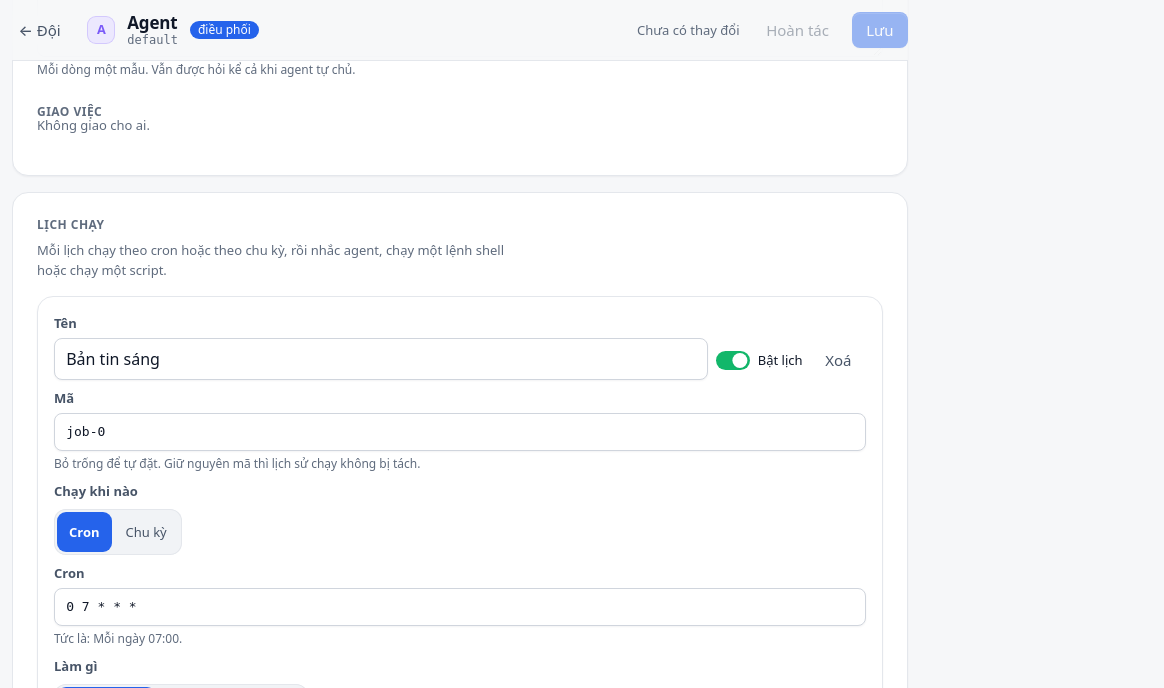
it: a script row the server numbered by its place › keeps that id when a row above it goes, save after save
(page scrolled)
Click the button "Xoá": click(838, 360) [810,340,866,380]
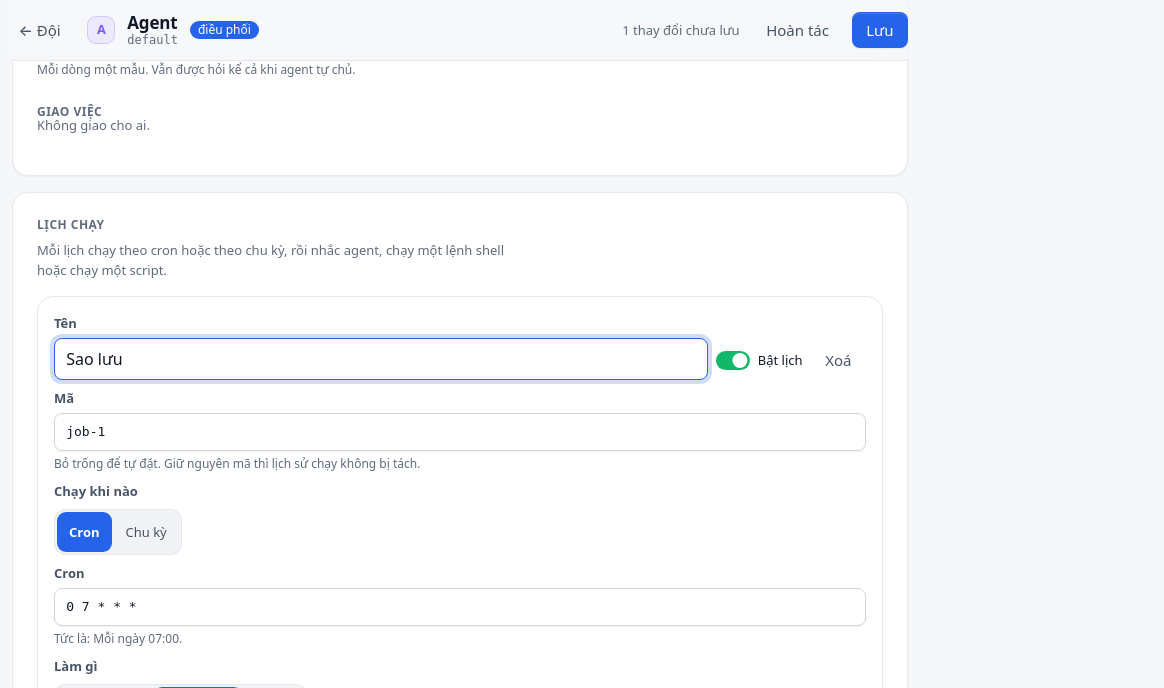
Click the button "Lưu": click(880, 30) [852,12,908,48]
(page scrolled)
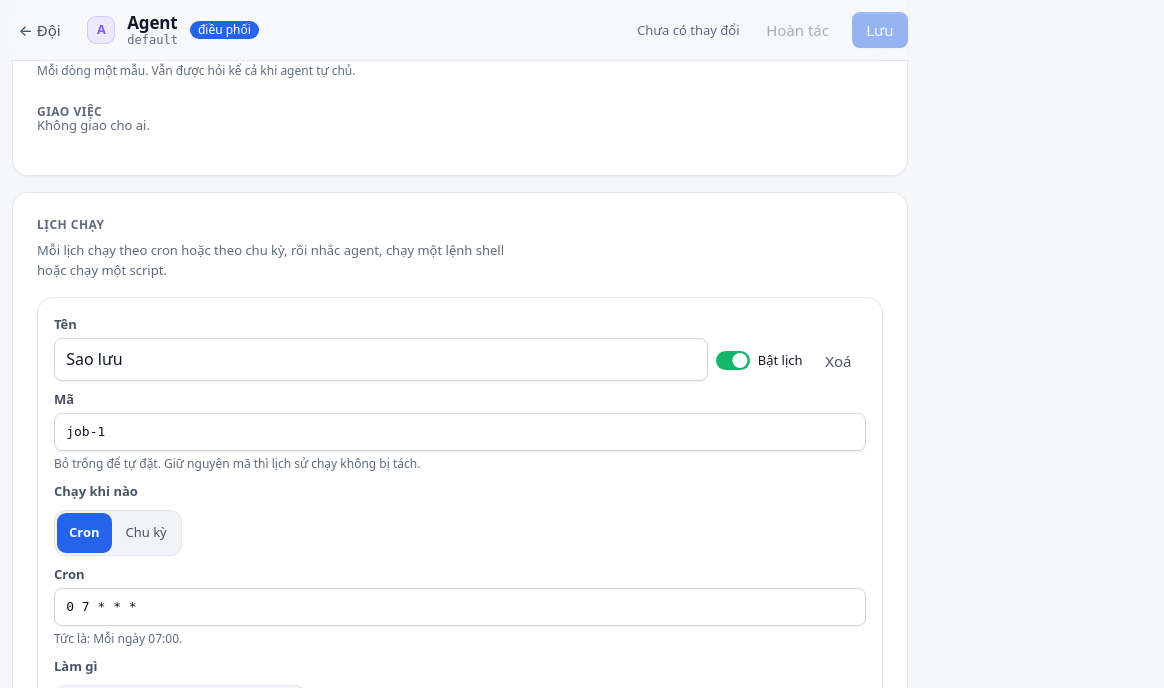
Now the button "Lưu" is disabled, box [852,12,908,48]
Click the button "Xoá": click(838, 360) [810,340,866,380]
(page scrolled)
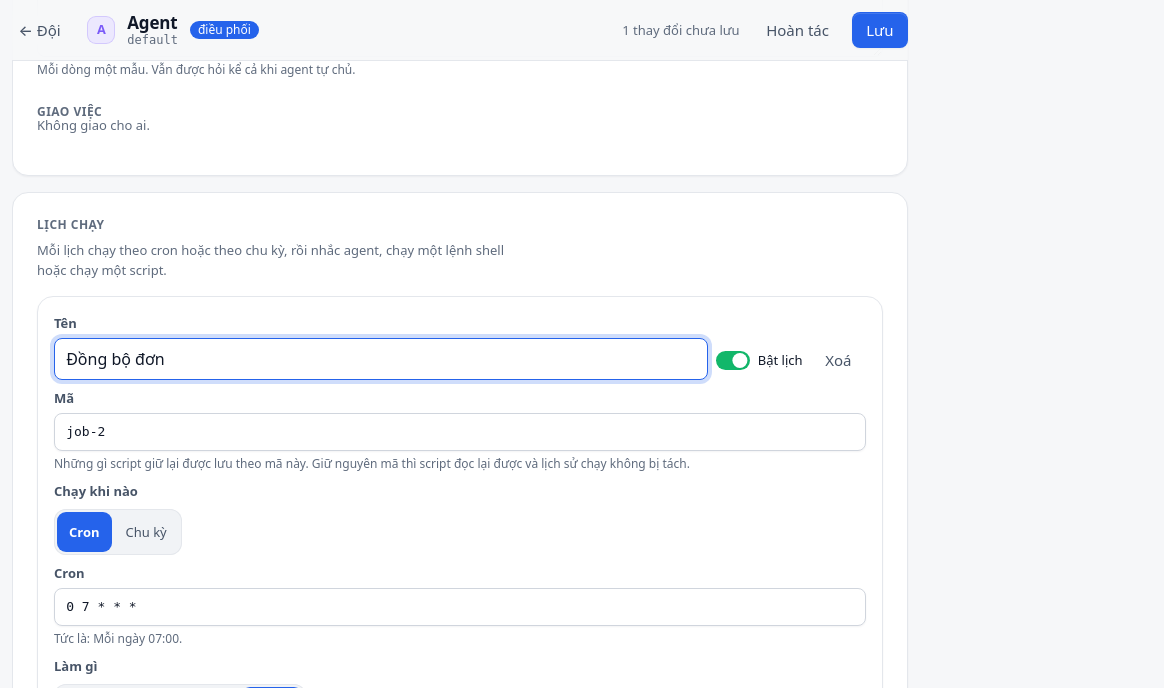
Click the button "Lưu": click(880, 30) [852,12,908,48]
(page scrolled)
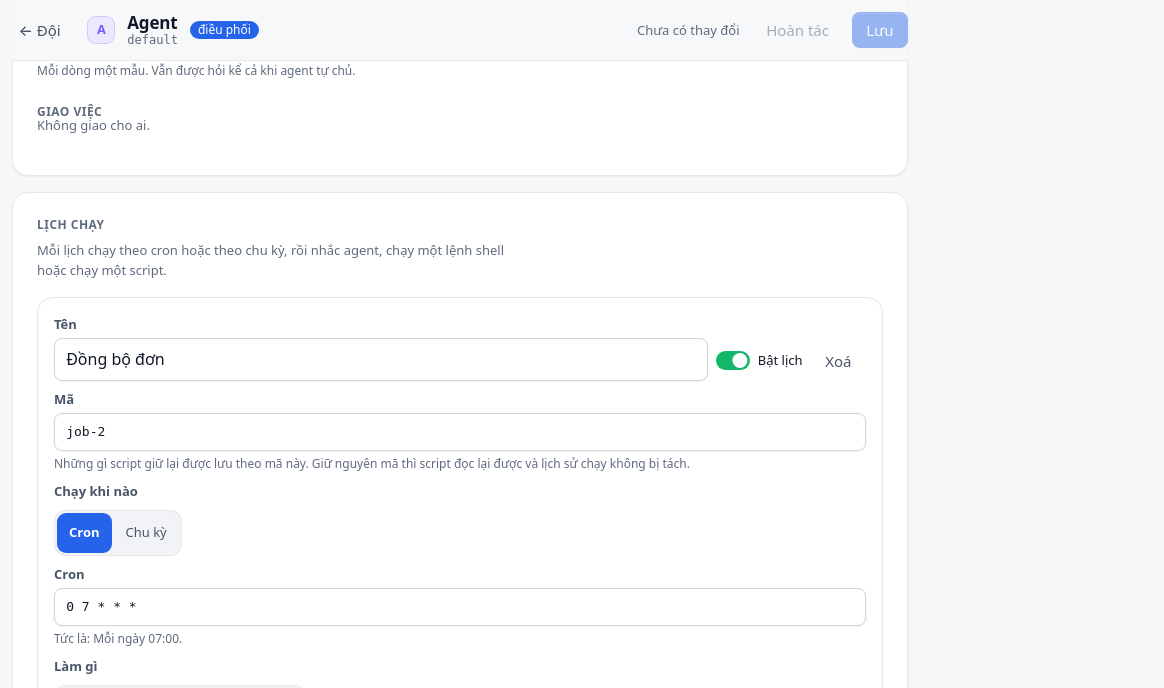
Now the button "Lưu" is disabled, box [852,12,908,48]
